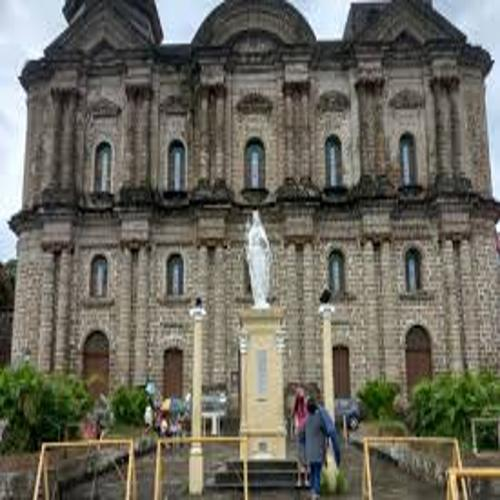Taal Basilica Church: (1, 1, 500, 444)
